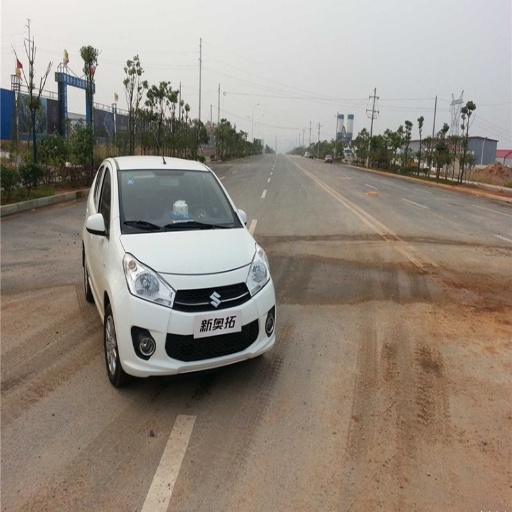front_bumper: (114, 265, 277, 374)
front_right_door: (92, 171, 117, 266)
front_right_light: (124, 259, 171, 303)
